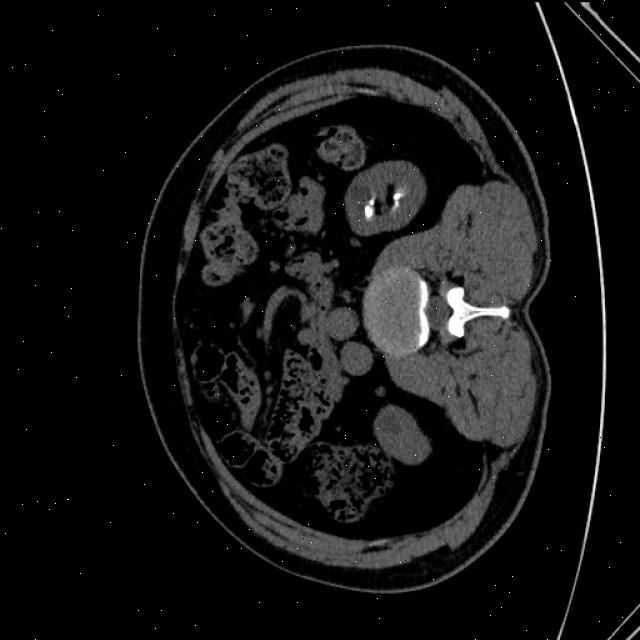kidneystone: (365, 195, 377, 219)
